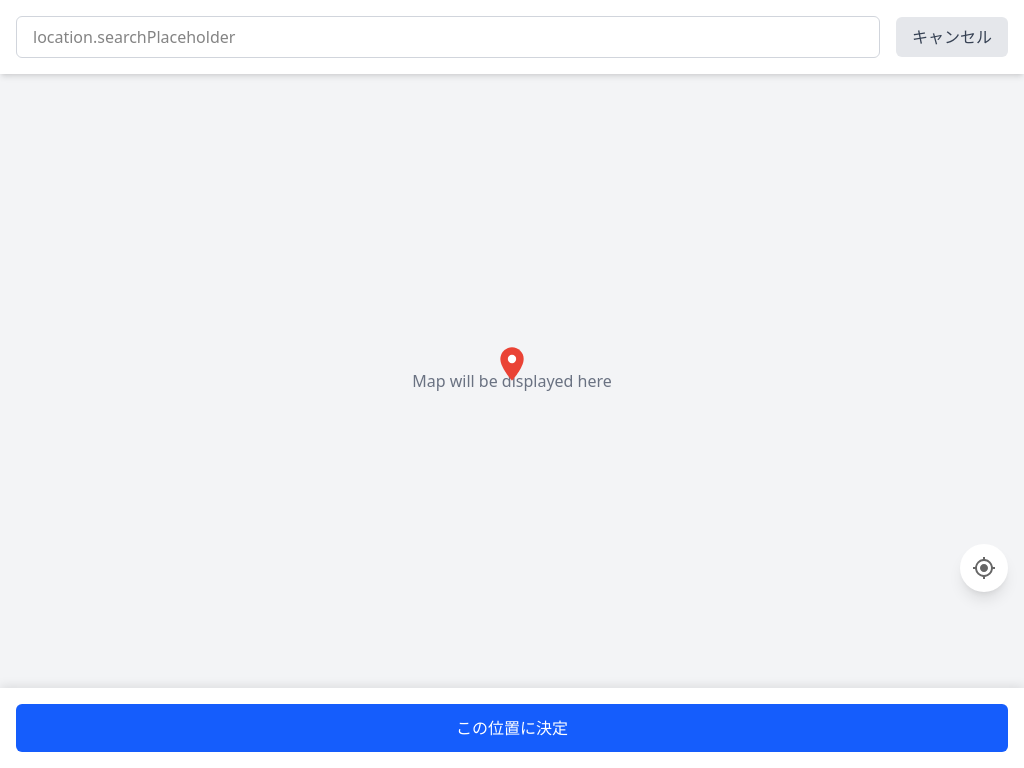
MapPicker › Current Location - 現在地機能 › shows error message when geolocation fails
The width and height of the screenshot is (1024, 768).
Click the button named "現在地" at (984, 568), box top-left (960, 544), bottom-right (1008, 592)
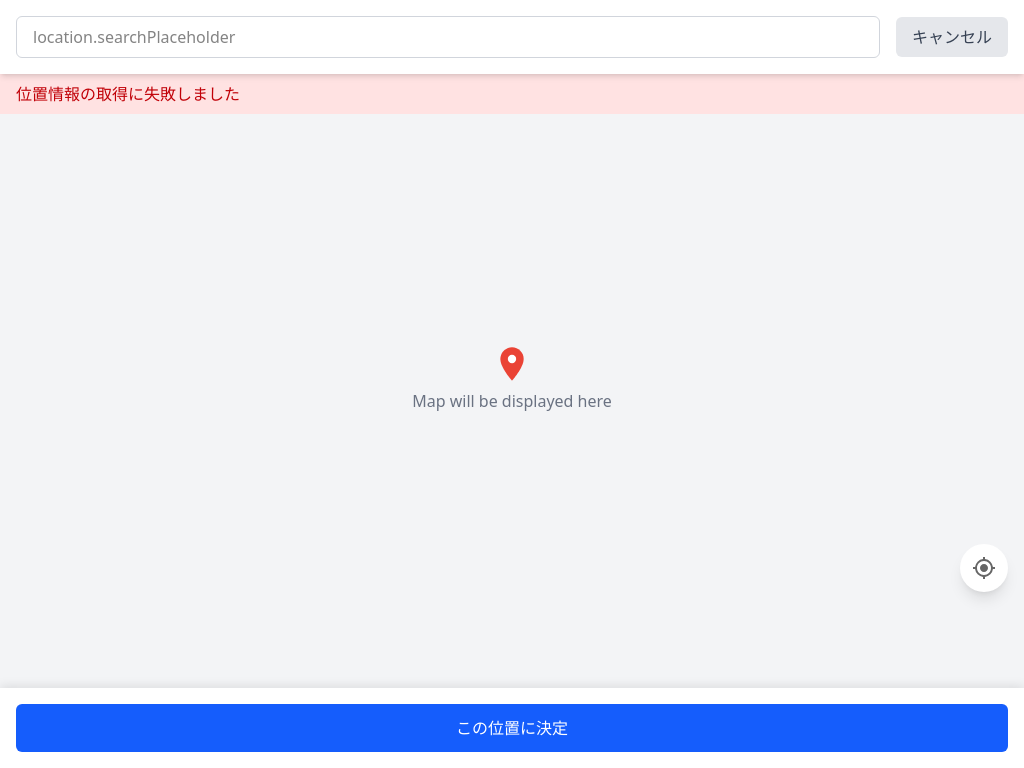
Check: the text "位置情報の取得に失敗しました" is shown, box top-left (0, 74), bottom-right (1023, 114)
